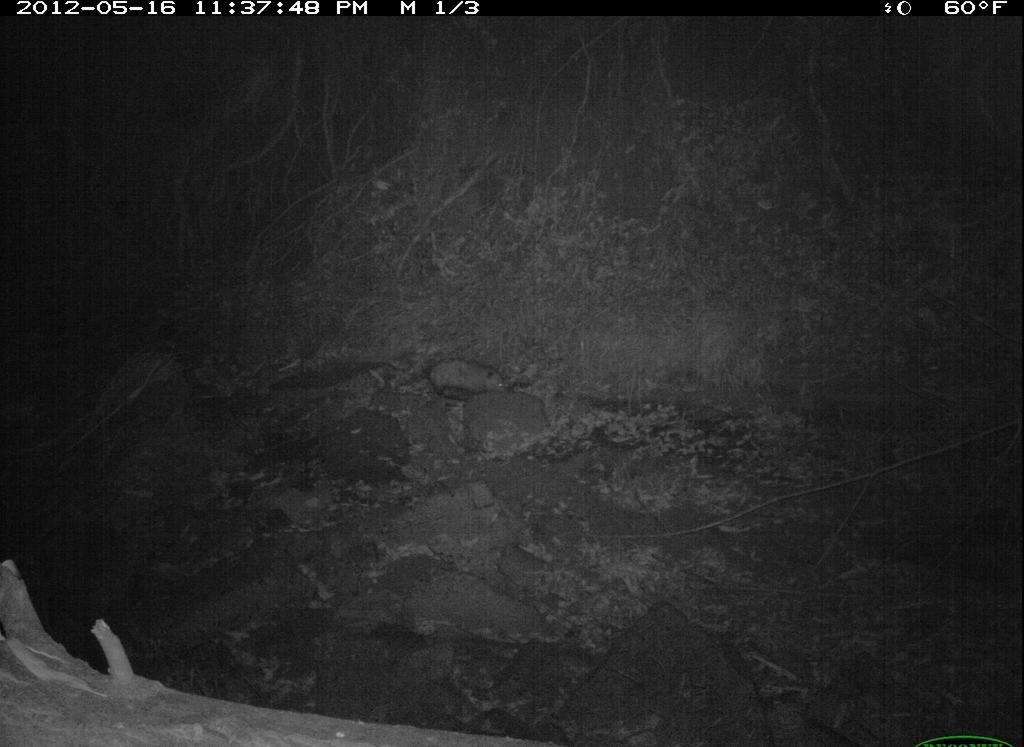opossum: (401, 347, 527, 406)
